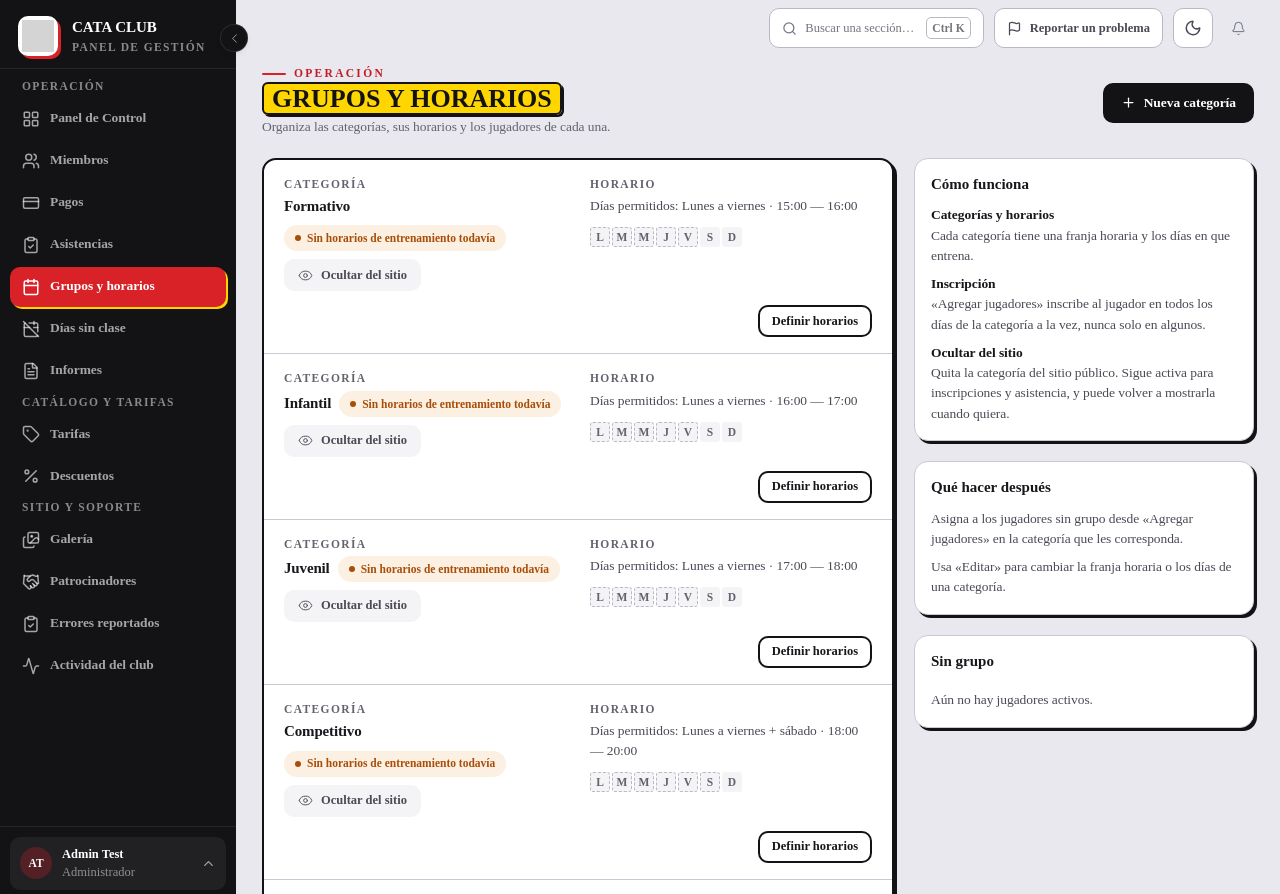
Scenario: GroupsPage — categoría form is typed input, not a locked catalog select (v6, docs/archive/fixes/24-abm-categorias.md) › the create form has a free-text nombre input and editable hora_inicio/hora_fin — no categoría <select> left
Step 1. Click the button "Nueva categoría" → (1178, 103), box [1103, 83, 1254, 123]
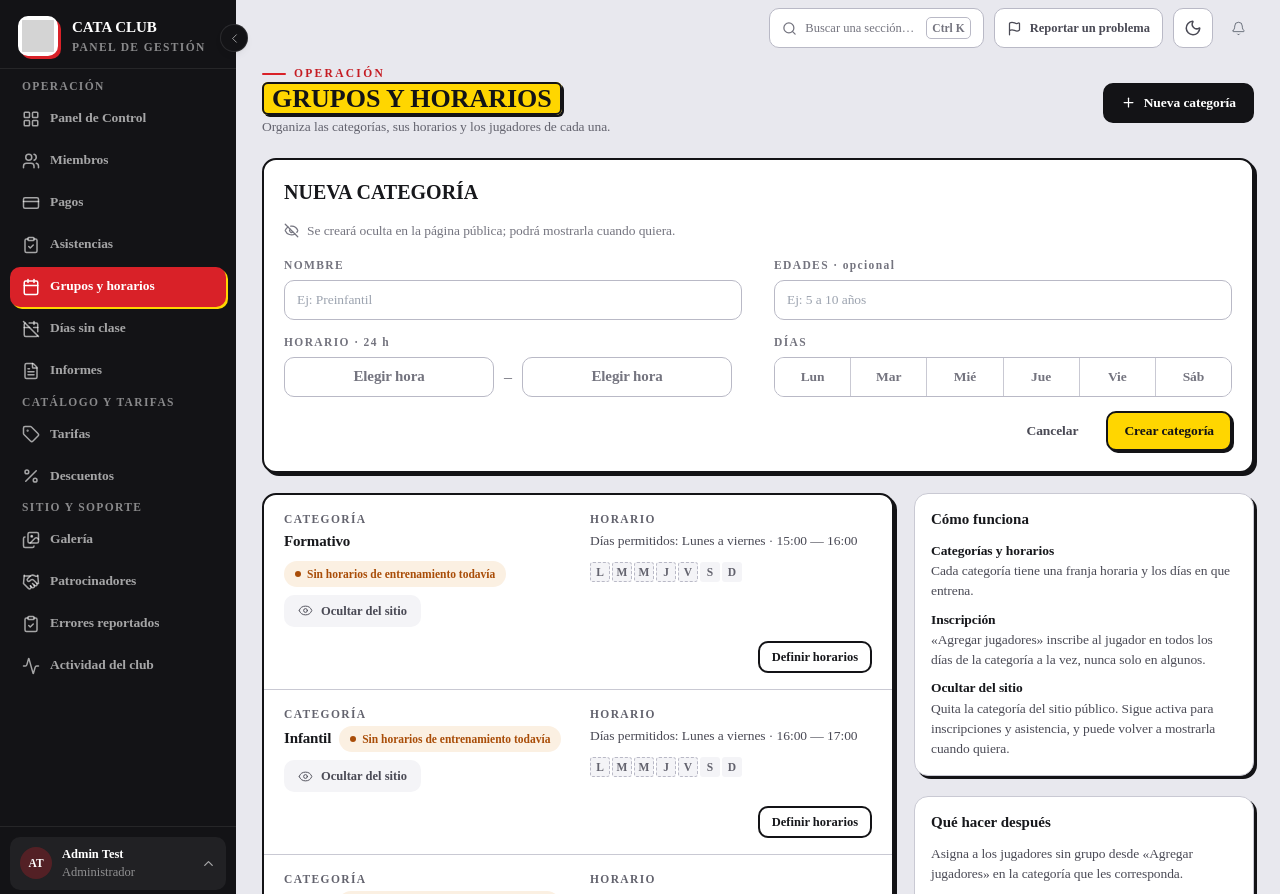
Expected: the field labelled "Nombre" is shown, [284, 280, 742, 320]
Expected: the button with aria-label "Hora de inicio" is shown, [284, 357, 494, 397]
